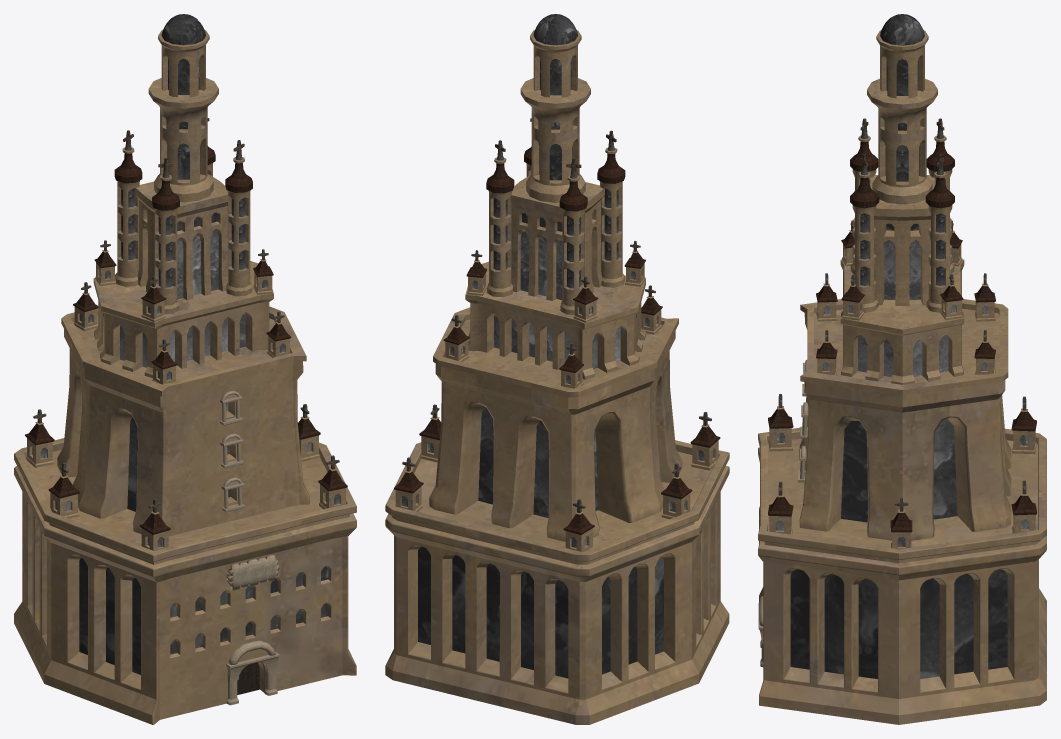
Rendered from phare-d-alexandrie.glb.
3 views of the same model, side by side, from view 1: azimuth 30°, elevation 25°; view 2: azimuth 150°, elevation 25°; view 3: azimuth 270°, elevation 25° (orthographic).
Visible parts, largest first — view 1: BottomBaseHP_lambert1_0, MidPart1_MisBase_0, TopBase_TopBasePart_M_0, SmallTowerMP_SmallTowerMidPoli_M_0, BottemTower_BottomTowerMidPoli_M_0, MidTowerMP_MidTowerMIdPoli_0, LittleHouseMP_LittleHousesMidPoli_0, LittleHouseMP_Door_M.001_0, BottomBaseHP_Janela_M_0, TopTower_TopTowerMidPoli_0, SmallTowerMP_Door_M.002_0, SmallTowerMP_Janela_M.006_0 (+12 smaller); view 2: BottomBaseHP_lambert1_0, MidPart1_MisBase_0, TopBase_TopBasePart_M_0, BottomBaseHP_Janela_M_0, SmallTowerMP_SmallTowerMidPoli_M_0, BottemTower_BottomTowerMidPoli_M_0, MidTowerMP_MidTowerMIdPoli_0, LittleHouseMP_LittleHousesMidPoli_0, LittleHouseMP_Door_M.001_0, MidPart1_Janela_M.001_0, TopTower_TopTowerMidPoli_0, SmallTowerMP_Door_M.002_0 (+7 smaller); view 3: BottomBaseHP_lambert1_0, MidPart1_MisBase_0, BottomBaseHP_Janela_M_0, TopBase_TopBasePart_M_0, MidTowerMP_MidTowerMIdPoli_0, MidPart1_Janela_M.001_0, LittleHouseMP_LittleHousesMidPoli_0, BottemTower_BottomTowerMidPoli_M_0, SmallTowerMP_SmallTowerMidPoli_M_0, LittleHouseMP_Door_M.001_0, SmallTowerMP_Door_M.002_0, TopTower_TopTowerMidPoli_0 (+9 smaller).
Boxes of the visible parts, left/top/right/bottom form: BottomBaseHP_lambert1_0: left=14, top=438, right=356, bottom=724; MidPart1_MisBase_0: left=57, top=306, right=309, bottom=536; TopBase_TopBasePart_M_0: left=93, top=261, right=273, bottom=378; SmallTowerMP_SmallTowerMidPoli_M_0: left=115, top=147, right=252, bottom=313; BottemTower_BottomTowerMidPoli_M_0: left=134, top=174, right=228, bottom=299; MidTowerMP_MidTowerMIdPoli_0: left=148, top=78, right=218, bottom=202; LittleHouseMP_LittleHousesMidPoli_0: left=25, top=250, right=345, bottom=550; LittleHouseMP_Door_M.001_0: left=25, top=251, right=347, bottom=534; BottomBaseHP_Janela_M_0: left=79, top=557, right=140, bottom=674; TopTower_TopTowerMidPoli_0: left=158, top=30, right=209, bottom=97; SmallTowerMP_Door_M.002_0: left=114, top=146, right=252, bottom=210; SmallTowerMP_Janela_M.006_0: left=121, top=170, right=245, bottom=287; BottomBaseHP_lambert1_0: left=385, top=440, right=729, bottom=724; MidPart1_MisBase_0: left=429, top=307, right=682, bottom=541; TopBase_TopBasePart_M_0: left=465, top=261, right=645, bottom=379; BottomBaseHP_Janela_M_0: left=418, top=546, right=663, bottom=678; SmallTowerMP_SmallTowerMidPoli_M_0: left=487, top=148, right=624, bottom=314; BottemTower_BottomTowerMidPoli_M_0: left=511, top=175, right=604, bottom=300; MidTowerMP_MidTowerMIdPoli_0: left=520, top=78, right=590, bottom=202; LittleHouseMP_LittleHousesMidPoli_0: left=395, top=250, right=718, bottom=551; LittleHouseMP_Door_M.001_0: left=394, top=252, right=720, bottom=534; MidPart1_Janela_M.001_0: left=478, top=407, right=598, bottom=517; TopTower_TopTowerMidPoli_0: left=530, top=30, right=581, bottom=97; SmallTowerMP_Door_M.002_0: left=486, top=146, right=625, bottom=211; BottomBaseHP_lambert1_0: left=758, top=427, right=1046, bottom=724; MidPart1_MisBase_0: left=799, top=299, right=1011, bottom=540; BottomBaseHP_Janela_M_0: left=790, top=569, right=1007, bottom=678; TopBase_TopBasePart_M_0: left=840, top=259, right=964, bottom=384; MidTowerMP_MidTowerMIdPoli_0: left=867, top=78, right=937, bottom=204; MidPart1_Janela_M.001_0: left=841, top=419, right=957, bottom=522; LittleHouseMP_LittleHousesMidPoli_0: left=768, top=230, right=1036, bottom=549; BottemTower_BottomTowerMidPoli_M_0: left=870, top=175, right=934, bottom=305; SmallTowerMP_SmallTowerMidPoli_M_0: left=850, top=135, right=954, bottom=312; LittleHouseMP_Door_M.001_0: left=768, top=232, right=1036, bottom=532; SmallTowerMP_Door_M.002_0: left=850, top=141, right=954, bottom=208; TopTower_TopTowerMidPoli_0: left=876, top=30, right=928, bottom=98.
Size of what is drawn, in the model's own units: 0.4673 by 1 by 0.4092.
Materials: 37 (36 with a texture image).
